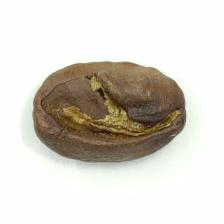NG: (36, 69, 185, 147)
